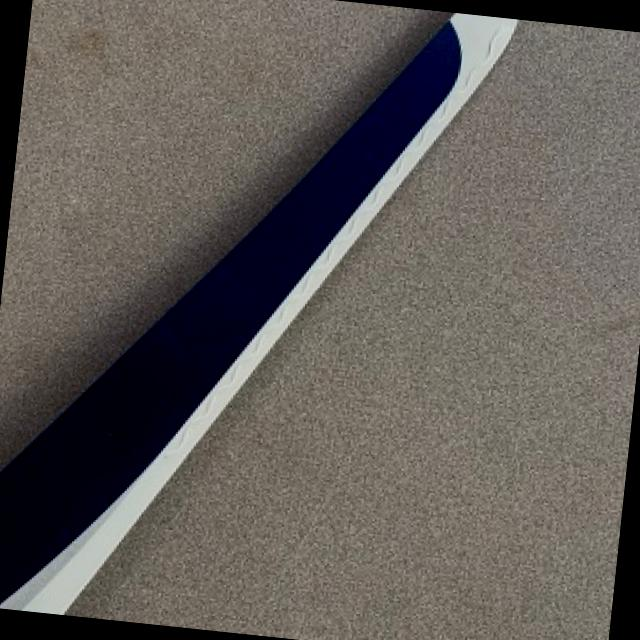healthy: (64, 19, 640, 640), (0, 12, 513, 612)
